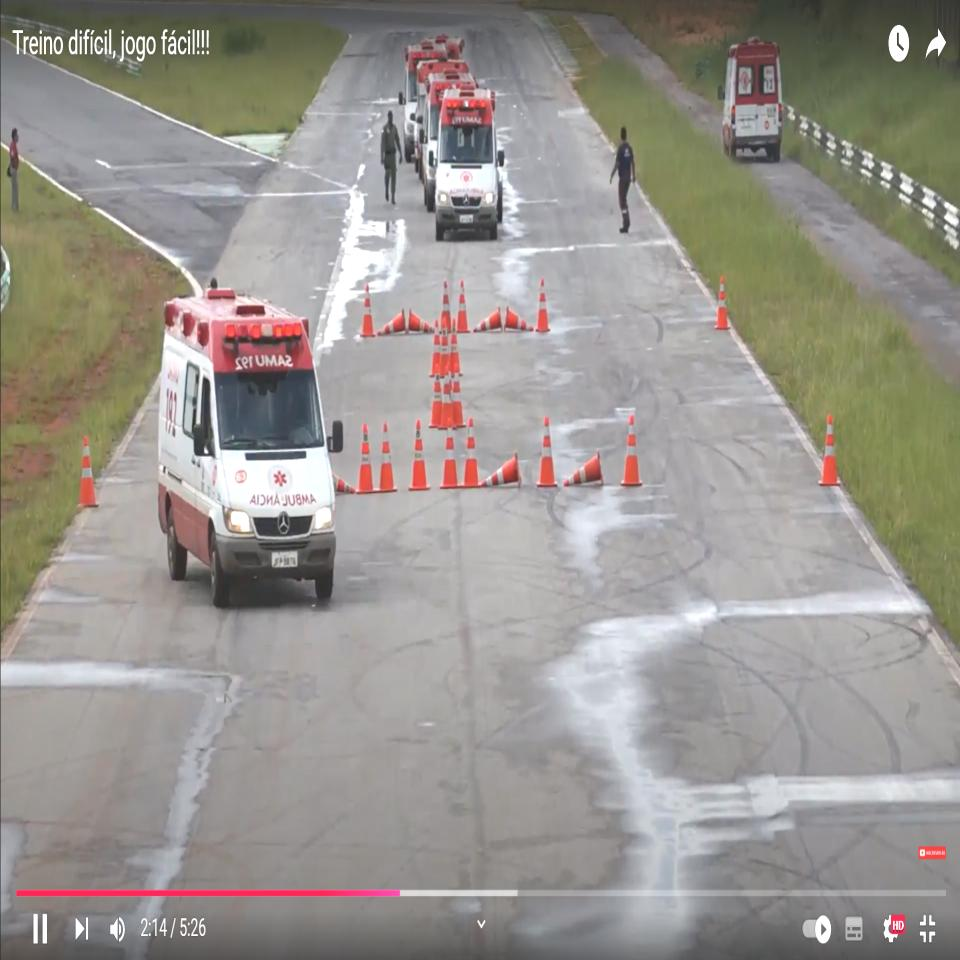ambulancia: (158, 288, 343, 602), (429, 83, 505, 239), (718, 37, 783, 160)
